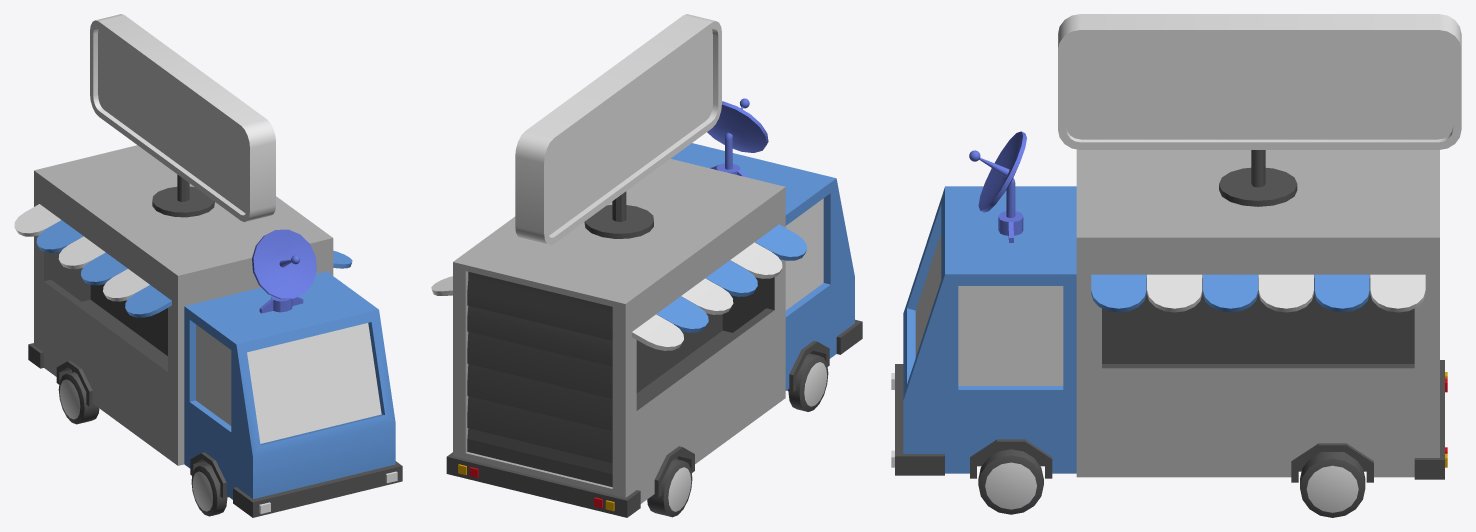
Rendered from UpgradeTruck.fbx.
The picture shows the model from 3 angles, left to right: view 1: azimuth 30°, elevation 25°; view 2: azimuth 150°, elevation 25°; view 3: azimuth 270°, elevation 25°; orthographic projection. The views are drawn at different scales.
Visible parts, largest first — view 1: bed, cabin, sign, awnings, antenna, frontBumper, rearWheels, frontWheels; view 2: bed, sign, door, cabin, awnings, rearBumper, antenna, rearWheels, frontWheels, frontBumper; view 3: bed, sign, cabin, awnings, rearWheels, frontWheels, antenna, frontBumper, rearBumper.
Part boxes in pixels (x1,y1,x2,y2): bed: (34, 145, 333, 465); cabin: (184, 271, 395, 499); sign: (90, 14, 275, 222); awnings: (14, 204, 352, 317); antenna: (252, 229, 316, 299); frontBumper: (233, 461, 402, 517); rearWheels: (58, 372, 99, 424); frontWheels: (191, 463, 227, 516); bed: (453, 159, 785, 503); sign: (515, 14, 721, 245); door: (467, 271, 612, 486); cabin: (671, 143, 854, 391); awnings: (431, 224, 806, 350); rearBumper: (446, 452, 640, 517); antenna: (707, 98, 768, 169); rearWheels: (647, 459, 692, 517); frontWheels: (788, 353, 828, 411); frontBumper: (836, 319, 862, 354); bed: (1076, 149, 1439, 482); sign: (1058, 14, 1461, 149); cabin: (903, 186, 1076, 478); awnings: (1091, 274, 1425, 312); rearWheels: (1300, 452, 1365, 517); frontWheels: (978, 449, 1043, 514); antenna: (969, 131, 1026, 217); frontBumper: (891, 364, 944, 475); rearBumper: (1414, 360, 1447, 479).
Bounding box in the file's own units: 1.78 × 2.7 × 3.14.
